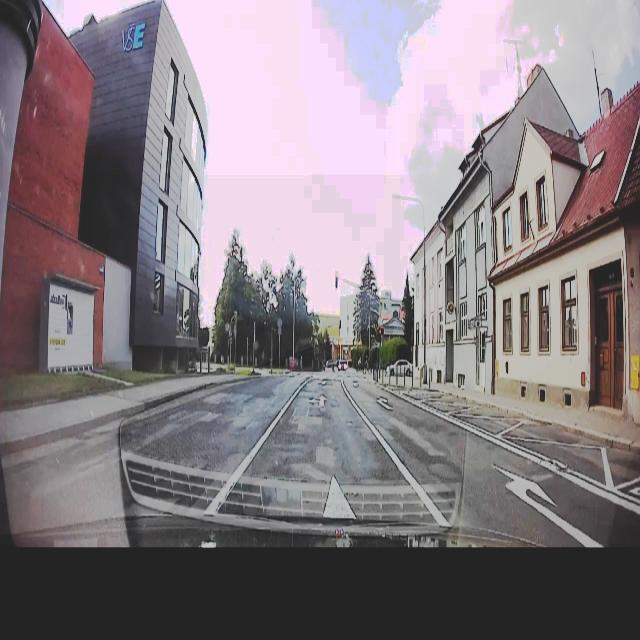Priority road: (376, 316, 383, 325)
